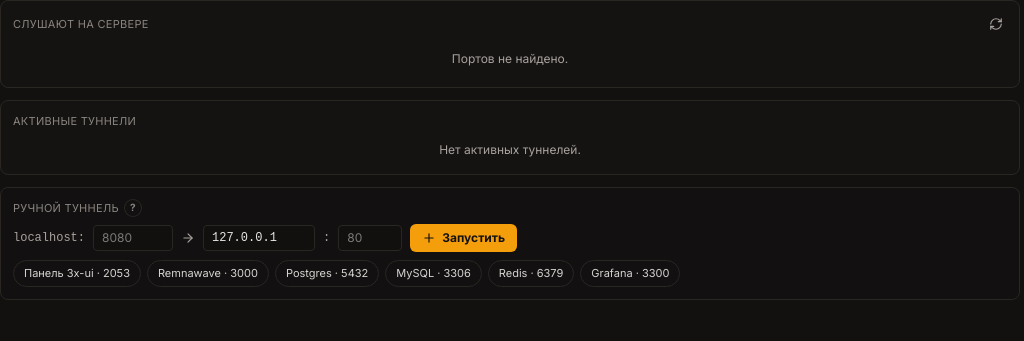
ForwardsPane IPC failures › reports an explicit open refusal without clearing manual input
Type "8081" into the field with placeholder "8080".
click(133, 238); type("8081")  # box top-left (93, 225), bottom-right (173, 251)
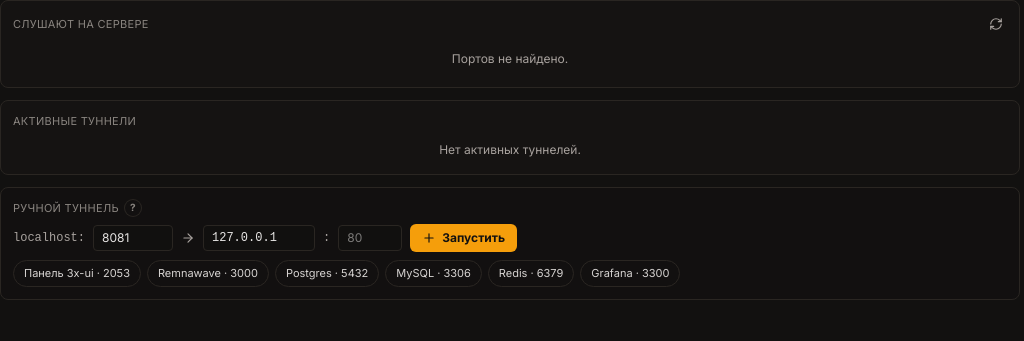
Type "8080" into the field with placeholder "80".
click(370, 238); type("8080")  # box top-left (338, 225), bottom-right (402, 251)
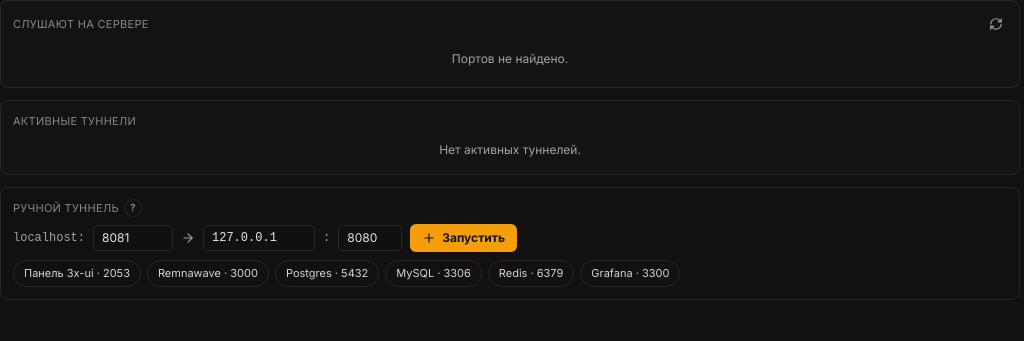
Click the button "Запустить".
click(464, 238)  # box top-left (410, 224), bottom-right (517, 252)
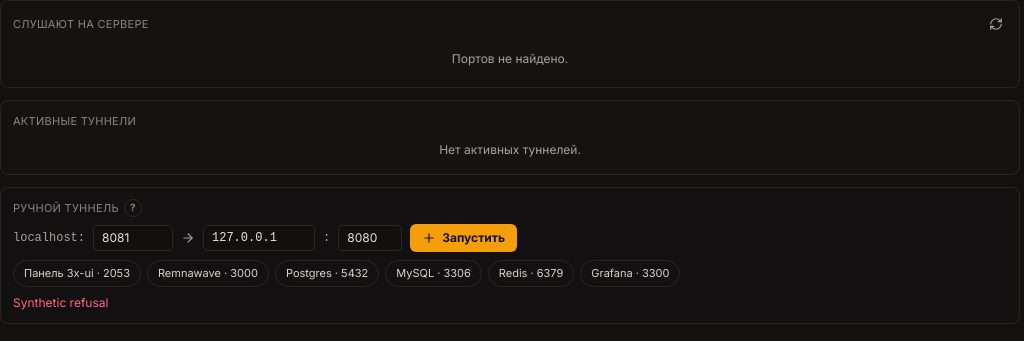
Result: the text "Synthetic refusal" is shown at top-left (13, 294), bottom-right (108, 310)
